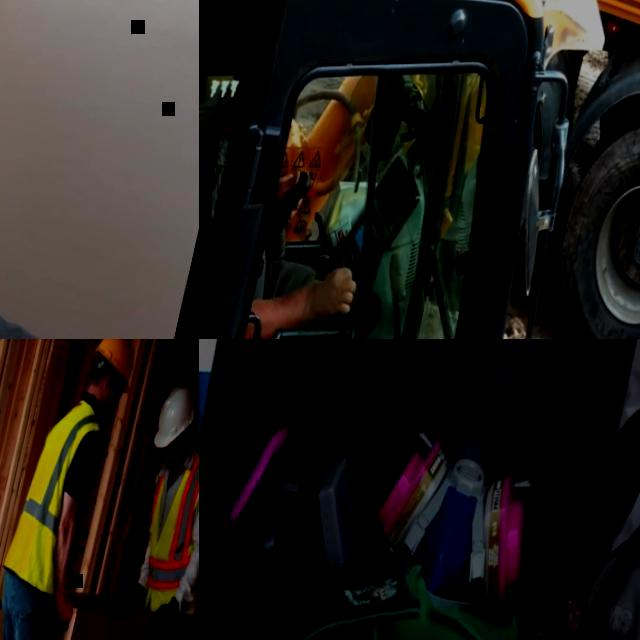helmet: (154, 383, 199, 453), (91, 339, 142, 389)
machinery: (199, 0, 629, 339), (250, 0, 640, 339)
mask: (360, 430, 546, 614), (214, 415, 386, 602), (546, 384, 640, 640)
no_mask: (100, 401, 117, 424), (169, 452, 182, 473)
no_vest: (0, 198, 162, 339)
person: (0, 0, 199, 339), (199, 75, 400, 339), (0, 339, 144, 640), (70, 378, 199, 640)
vest: (0, 392, 112, 597), (127, 441, 199, 634)
